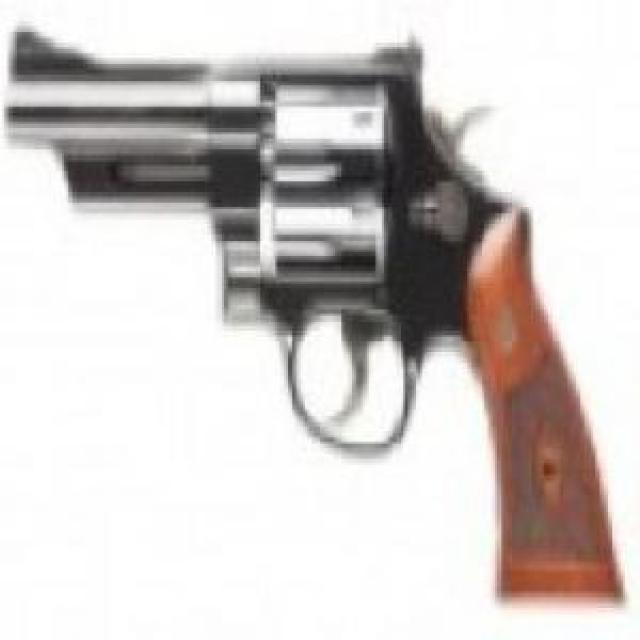pistol: (4, 17, 630, 614)
